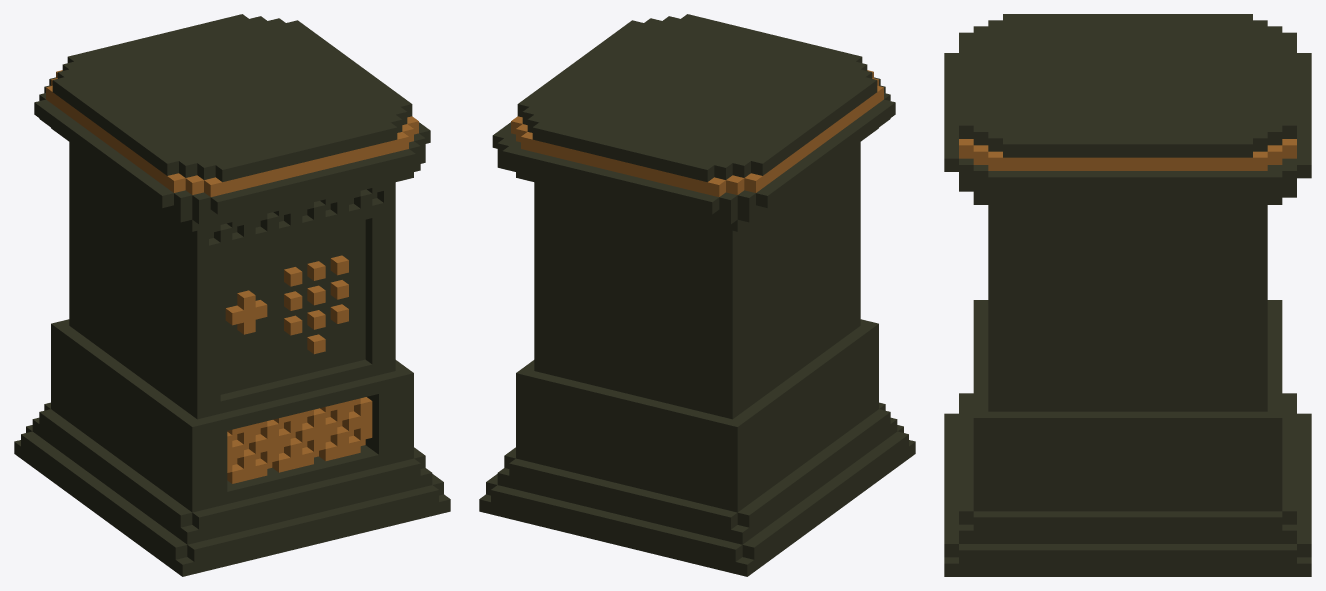
File: Coffre fort.obj
The picture shows the model from 3 angles, left to right: view 1: azimuth 30°, elevation 25°; view 2: azimuth 150°, elevation 25°; view 3: azimuth 270°, elevation 25°; orthographic projection. The views are drawn at different scales.
Visible parts, largest first — view 1: Coffre fort; view 2: Coffre fort; view 3: Coffre fort.
Boxes of the visible parts, <box> form: Coffre fort: <box>14,14,450,576</box>; Coffre fort: <box>479,14,915,576</box>; Coffre fort: <box>944,14,1311,576</box>.
Bounding box in the file's own units: 23 × 32 × 25.
1 material, 1 textured.
